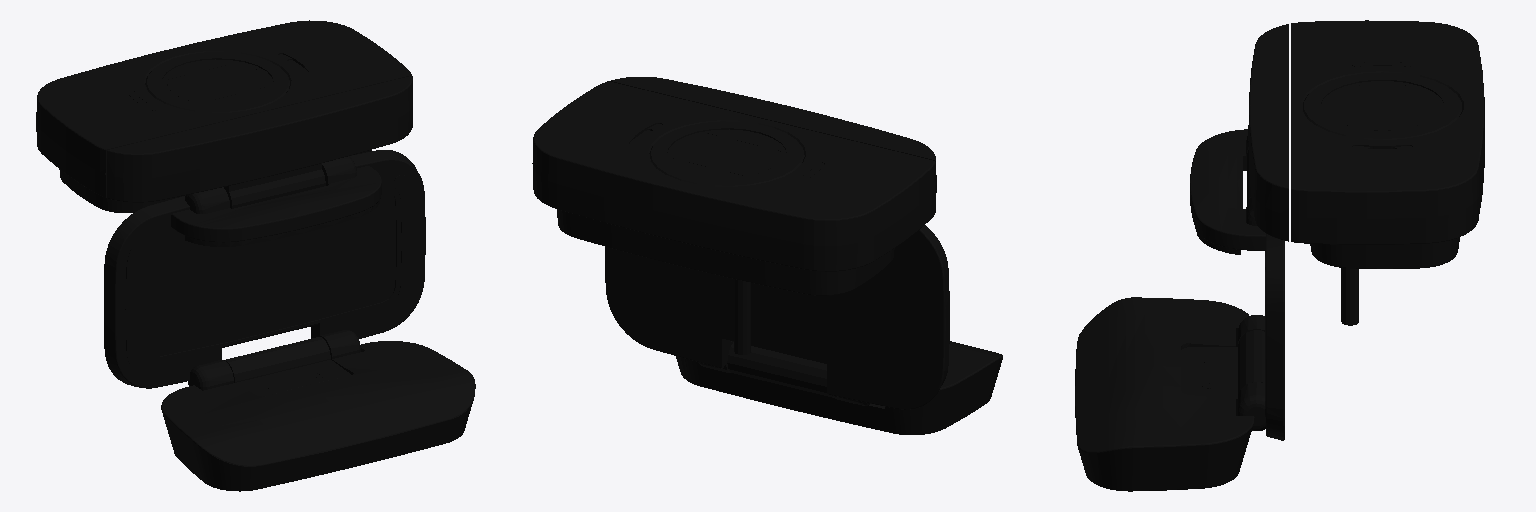
robot.urdf — camera:
<?xml version="1.0" encoding="utf-8"?>
<!-- This URDF was automatically created by SolidWorks to URDF Exporter! Originally created by [author] ([email redacted]) 
     Commit Version: 1.6.0-4-g7f85cfe  Build Version: 1.6.7995.38578
     For more information, please see http://wiki.ros.org/sw_urdf_exporter -->
<robot
  name="camera">
  
  <link name="world"/>
  
  
  
  <joint name="base_joint" type="fixed">
	<parent link="world"/>
	<child link="base_link"/>
	<origin rpy="0 0 0" xyz="0.0 0.0 1.2"/>
  </joint>  
  
  <link
    name="base_link">
    <inertial>
      <origin
        xyz="1.31705403197575E-06 -0.0126651020605476 0.0216048537264026"
        rpy="0 0 0" />
      <mass
        value="0.0578534500150547" />
      <inertia
        ixx="5.36128455572792E-06"
        ixy="3.53007429843158E-11"
        ixz="5.44894757786953E-10"
        iyy="1.98668674606003E-05"
        iyz="-4.97152021928456E-08"
        izz="2.11516339006219E-05" />
    </inertial>
    <visual>
      <origin
        xyz="0 0 0"
        rpy="0 0 0" />
      <geometry>
        <mesh
          filename="package://camera/meshes/base_link.STL" />
      </geometry>
      <material
        name="">
        <color
          rgba="0.0980392156862745 0.0980392156862745 0.0980392156862745 1" />
      </material>
    </visual>
    <collision>
      <origin
        xyz="0 0 0"
        rpy="0 0 0" />
      <geometry>
        <mesh
          filename="package://camera/meshes/base_link.STL" />
      </geometry>
    </collision>
  </link>
</robot>

--- Facts derived from the render (not from the file) ---
The picture shows the robot from 3 angles, left to right: view 1: azimuth 30°, elevation 25°; view 2: azimuth 150°, elevation 25°; view 3: azimuth 270°, elevation 25°; orthographic projection.
Robot: camera — 2 links, 1 joints (1 fixed); root link world; default pose: every joint at zero.
Links seen in each view (by area): view 1: base_link; view 2: base_link; view 3: base_link.
Boxes of the visible links, x1=… form: base_link: x1=36, y1=20, x2=475, y2=491; base_link: x1=532, y1=77, x2=1002, y2=434; base_link: x1=1075, y1=20, x2=1484, y2=491.
Size in the robot's own frame: 0.0682 by 0.0688 by 0.0587 metres.
Meshes: 1 distinct files referenced, 1 mesh visuals loaded (1 binary STL).